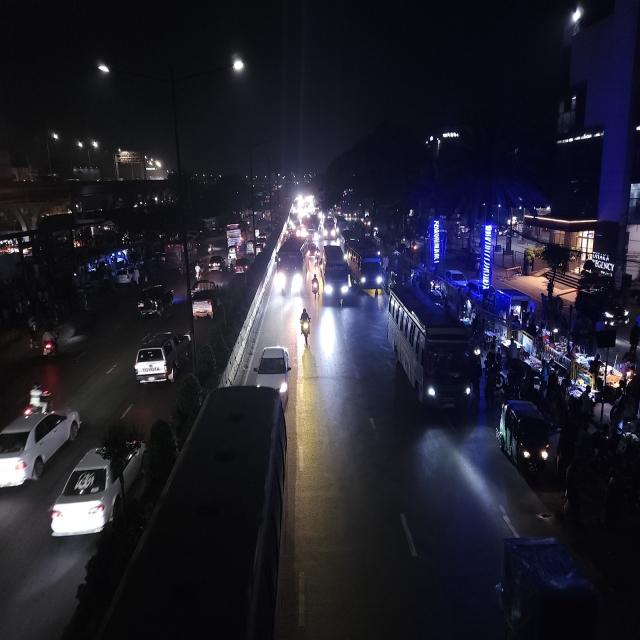bus: (95, 388, 295, 640), (385, 282, 481, 421), (346, 233, 384, 298), (316, 242, 349, 308), (274, 235, 308, 297), (165, 239, 191, 270), (225, 221, 245, 249), (304, 215, 320, 242), (322, 216, 336, 242)
car: (46, 432, 148, 549), (0, 404, 83, 494), (496, 396, 559, 480), (132, 327, 193, 386), (252, 343, 294, 394), (136, 282, 175, 318), (190, 278, 222, 321), (232, 256, 250, 276), (208, 254, 226, 273), (254, 240, 264, 255)
motorcycle: (21, 382, 53, 418), (36, 328, 61, 363), (298, 305, 314, 348), (310, 272, 320, 302), (194, 259, 204, 280)
rickshaw: (298, 305, 312, 348)
